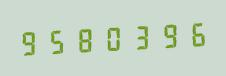eight: (71, 22, 97, 56)
five: (44, 23, 70, 58)
nine: (152, 17, 178, 52), (17, 25, 43, 59)
six: (179, 16, 205, 51)
three: (125, 19, 151, 53)
zero: (98, 20, 124, 55)
